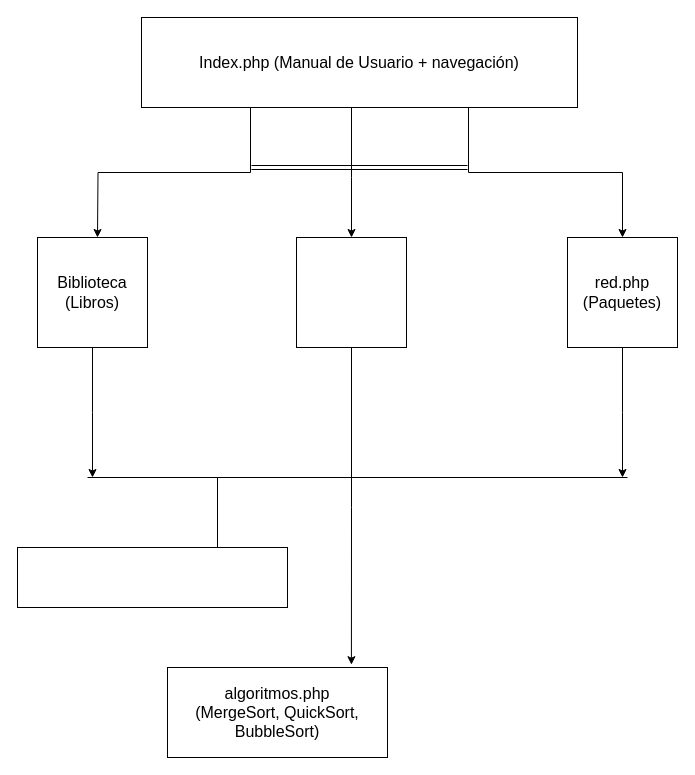
The diagram is 695 pixels wide and 775 high, and some of its shapes have lost their labels. The shapes that lost their labels are listed below. From the top down, each one's centre as x and y in pixels, then its label:
the point at 351,292: Banco.php (Clientes)
the point at 152,577: Sort.php (Comparación de Algoritmos)
